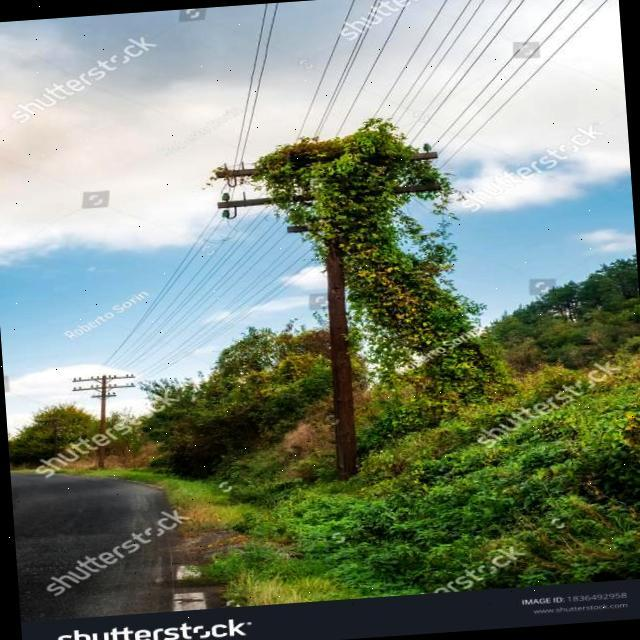critical vegetation: (202, 117, 475, 335)
